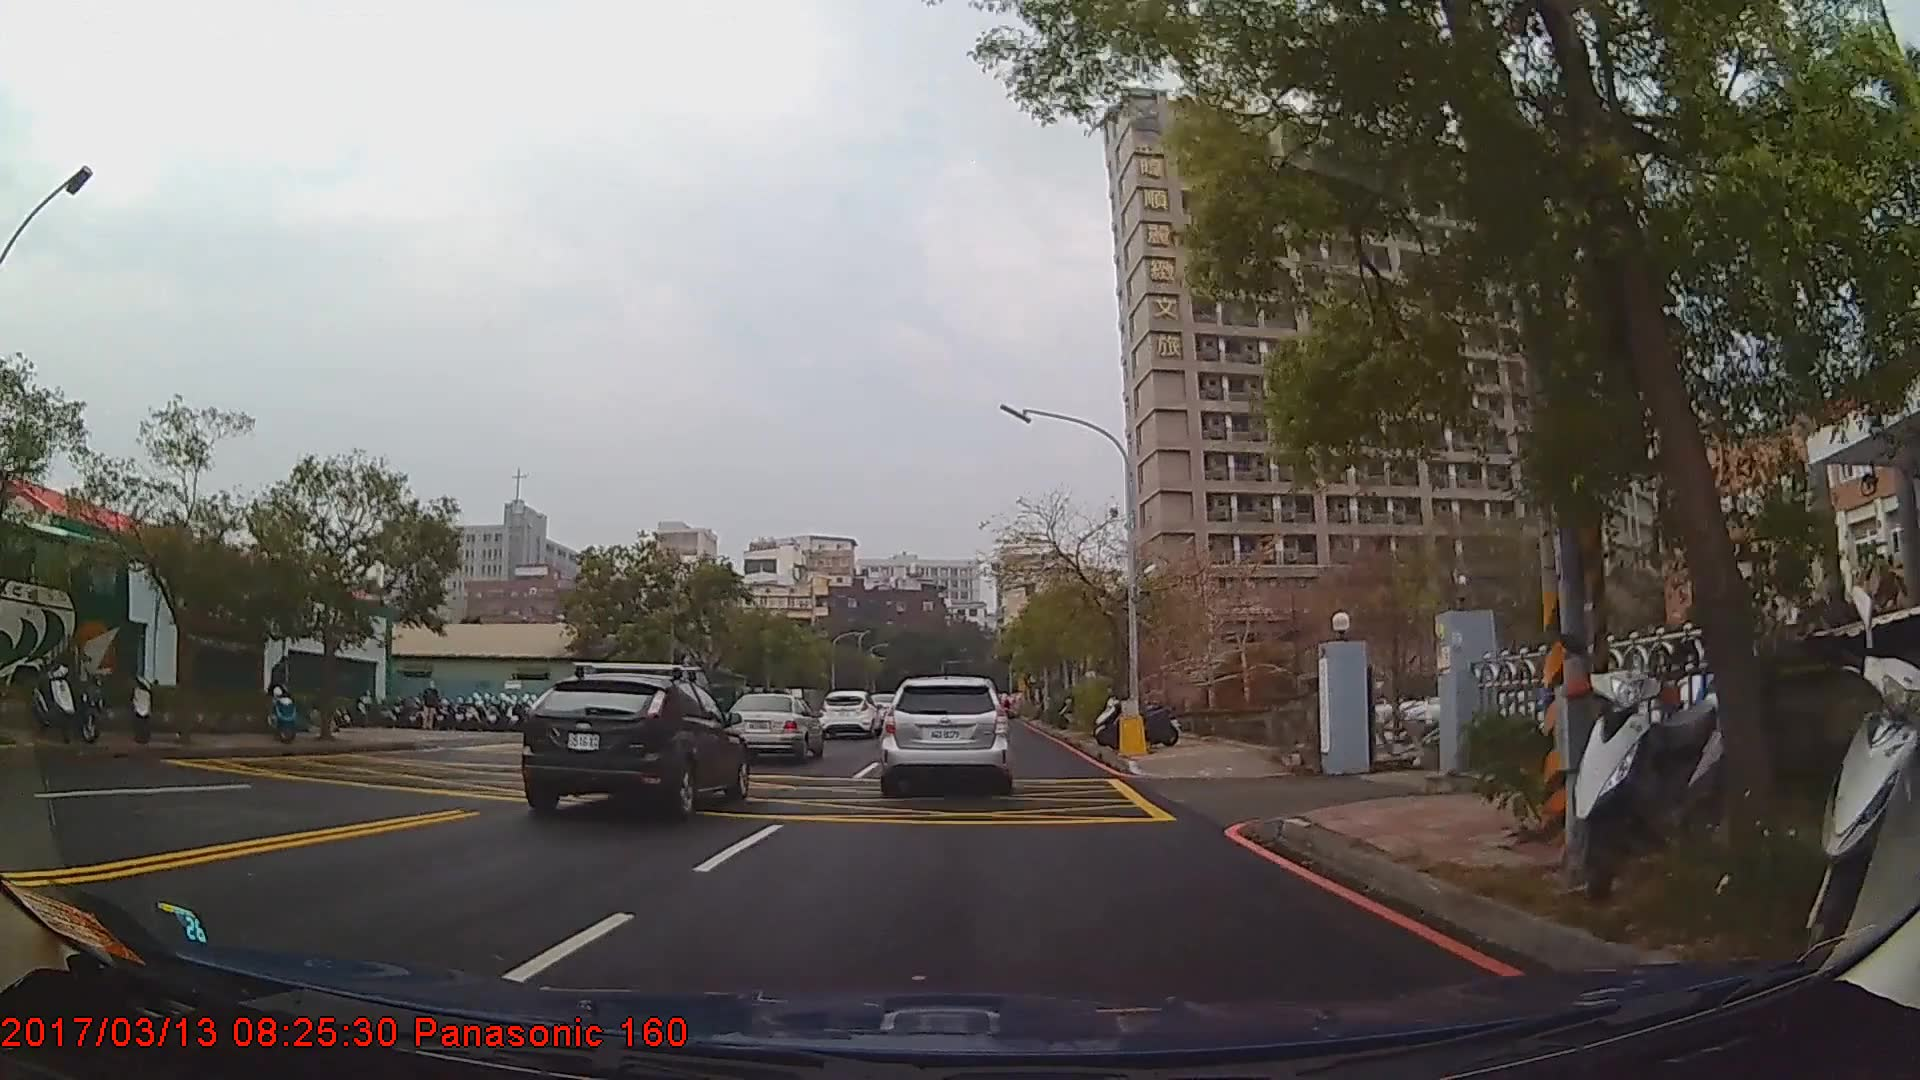pedestrian: (423, 681, 443, 731)
vehicle: (519, 669, 749, 815), (0, 502, 132, 723), (882, 673, 1008, 789), (724, 689, 822, 760), (819, 686, 882, 736)
